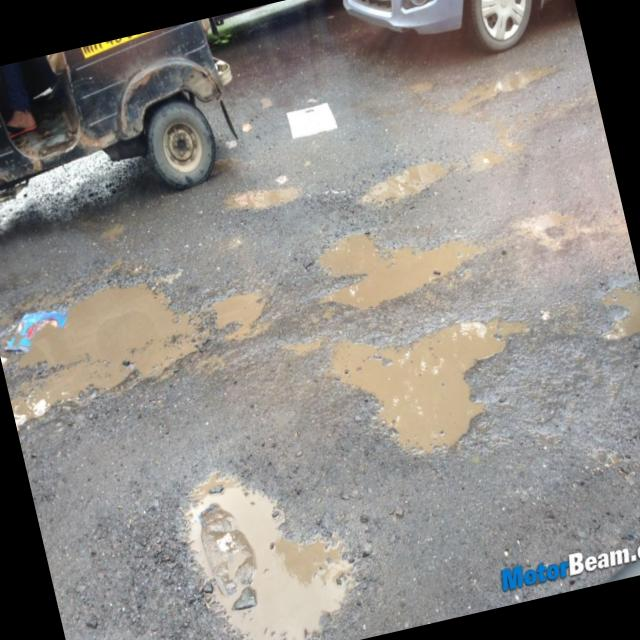Potholes: (281, 270, 558, 497), (134, 424, 395, 640), (0, 260, 231, 431), (299, 185, 492, 342), (424, 40, 566, 132), (342, 142, 474, 221), (562, 252, 640, 373), (196, 271, 288, 362), (218, 158, 310, 234)
